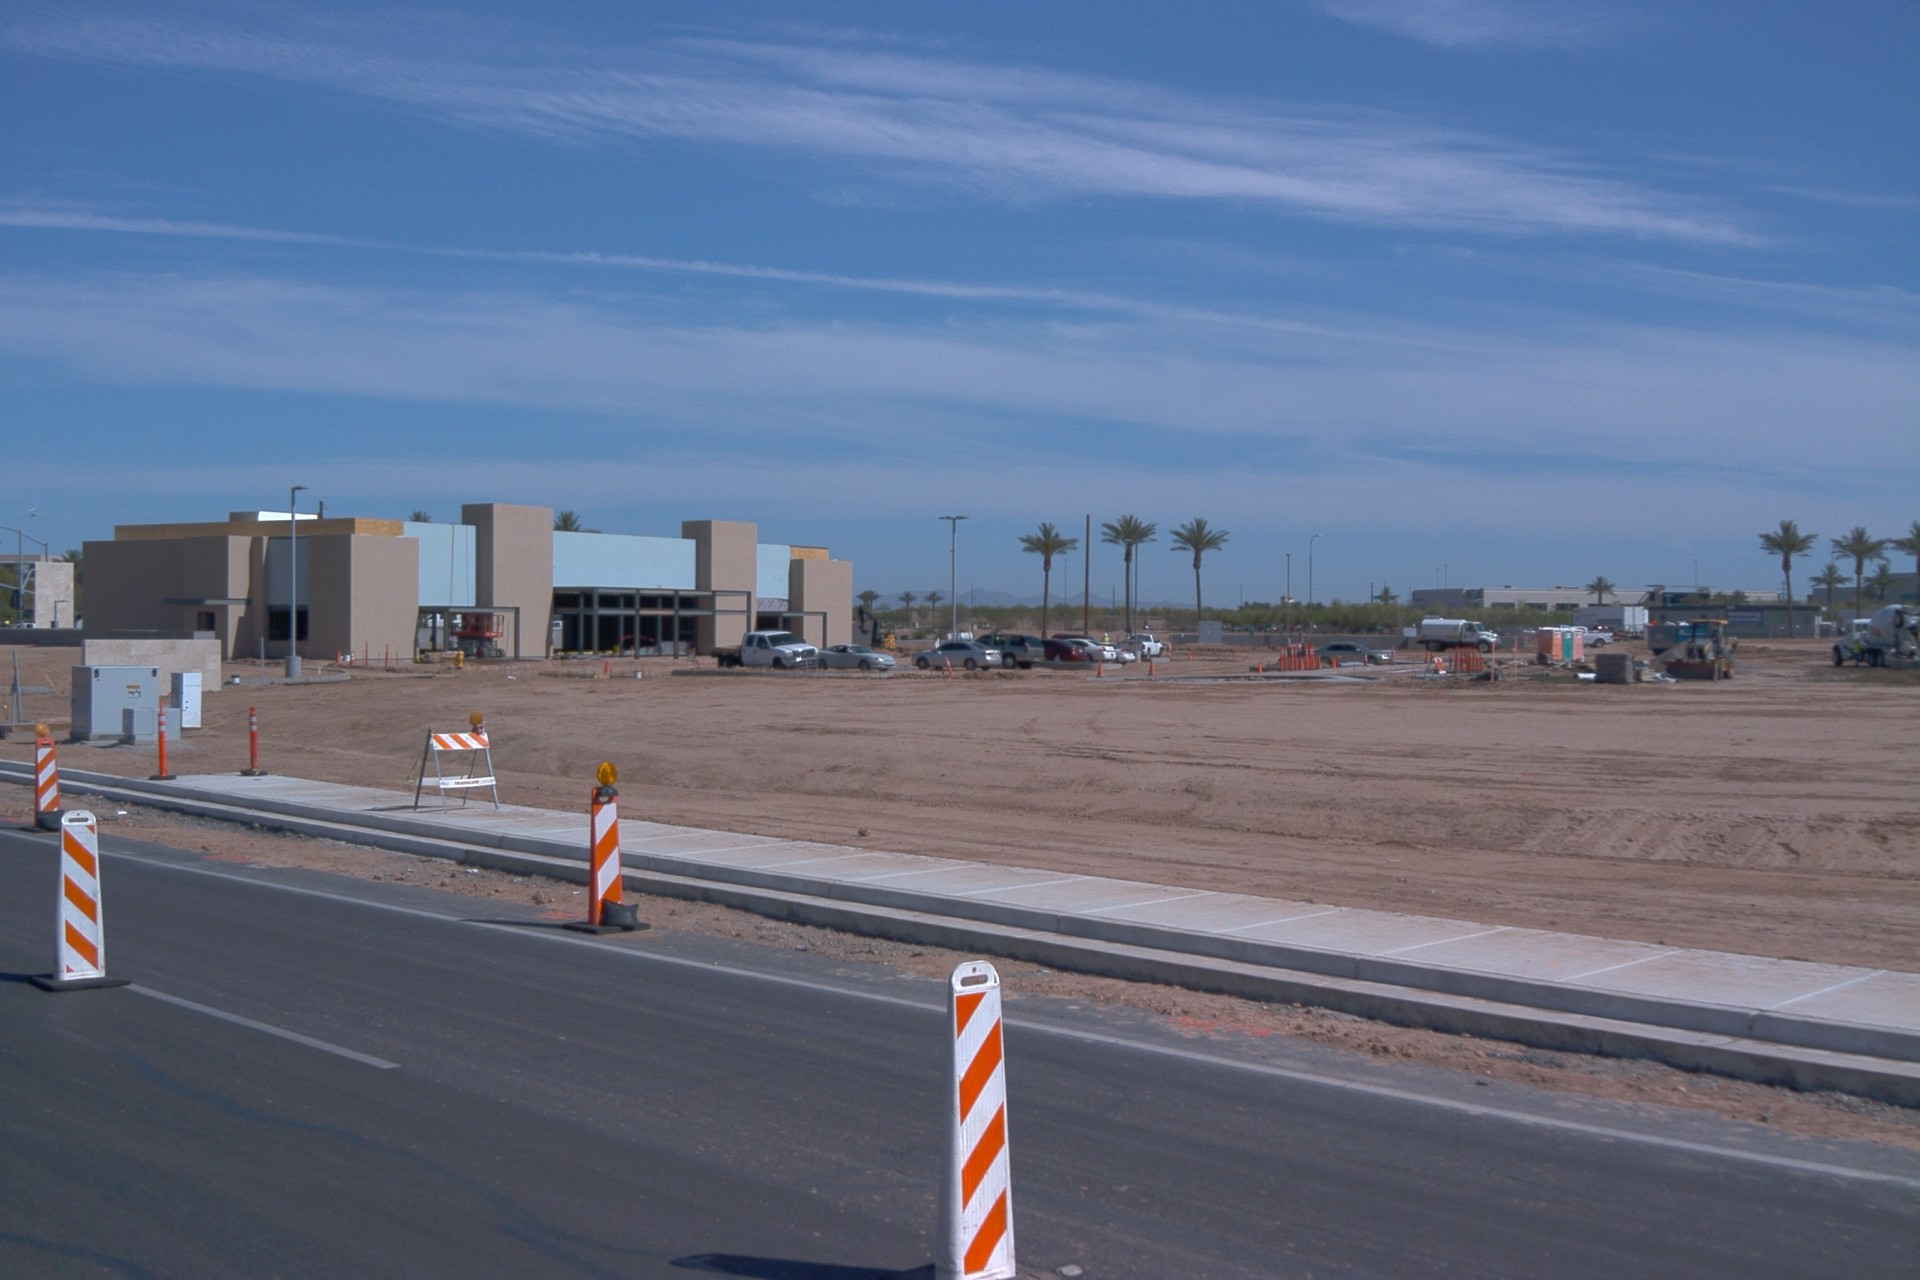TYPE_PEDESTRIAN: (1852, 639, 1867, 668), (1099, 633, 1110, 645), (1125, 630, 1131, 640)
TYPE_VEHICLE: (1829, 609, 1920, 672), (711, 626, 824, 671), (1658, 614, 1734, 678), (1417, 615, 1503, 658), (970, 626, 1049, 671), (911, 639, 1005, 672), (816, 643, 895, 669), (1036, 630, 1092, 663), (1315, 643, 1392, 666), (1060, 636, 1116, 661), (1117, 632, 1166, 657), (1567, 630, 1615, 651), (423, 611, 462, 629), (1102, 643, 1135, 664), (944, 631, 975, 645), (1051, 634, 1094, 641), (12, 624, 37, 631)
